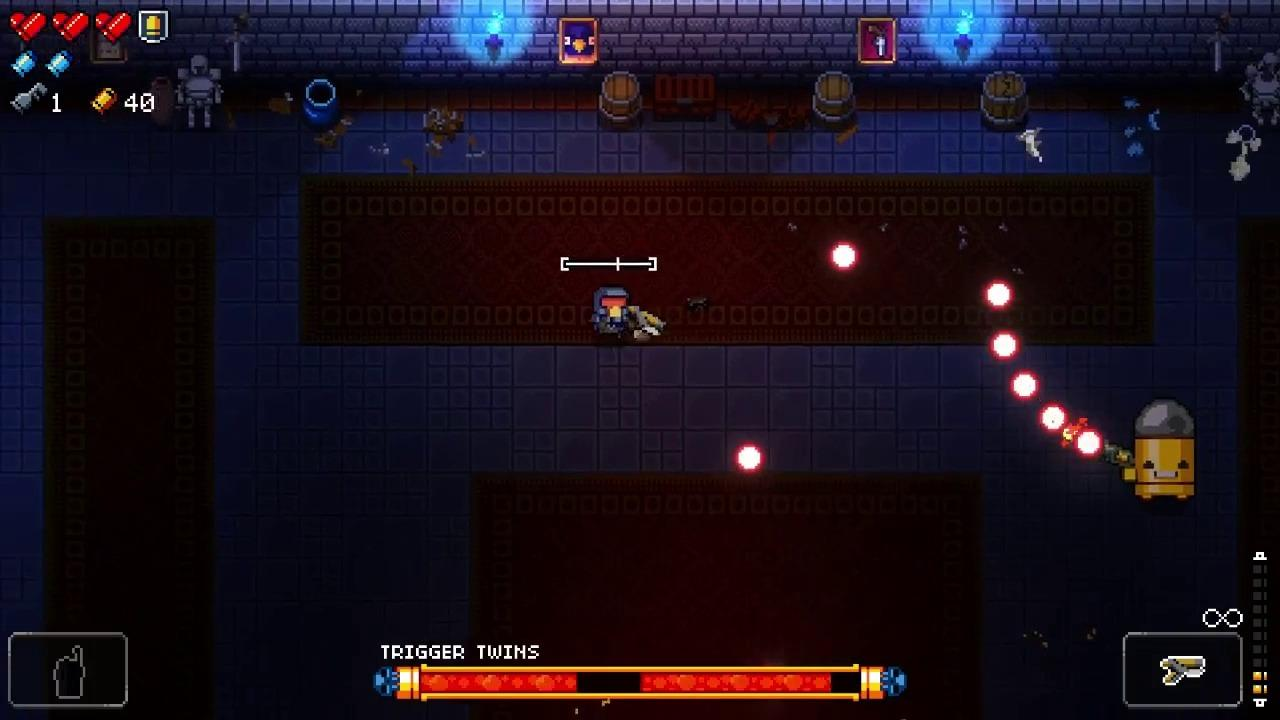boss_smiley: (1132, 401, 1199, 501)
bullet: (1071, 428, 1104, 462), (733, 444, 766, 477), (986, 330, 1020, 362), (1039, 403, 1069, 435), (829, 242, 859, 273), (981, 282, 1014, 310), (1010, 372, 1041, 401)
player: (589, 290, 630, 341)
